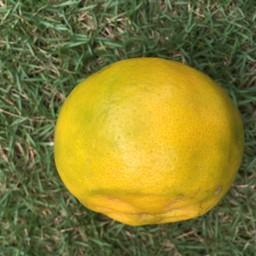Good_orange: (42, 42, 256, 228)
